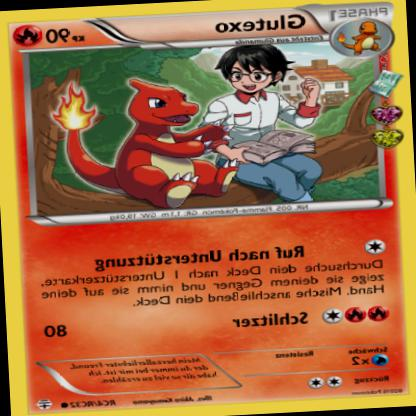Charmeleon: (54, 48, 243, 215)
